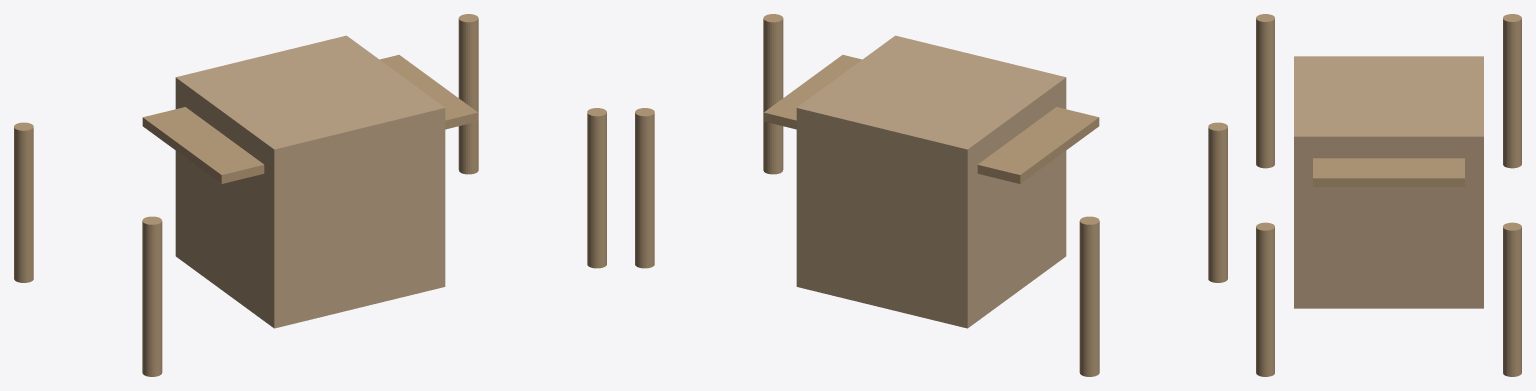
The model's file is wood_trough.glb.
3 renders of one model, left to right at view 1: azimuth 30°, elevation 25°; view 2: azimuth 150°, elevation 25°; view 3: azimuth 270°, elevation 25°, orthographic. The views are drawn at different scales.
Visible parts, largest first — view 1: wood_trough, bench_top, bench_leg_-1.3_-0.65, bench_leg_1.3_-0.65, bench_leg_-1.3_0.65, bench_leg_1.3_0.65; view 2: wood_trough, bench_top, bench_leg_-1.3_0.65, bench_leg_1.3_0.65, bench_leg_-1.3_-0.65, bench_leg_1.3_-0.65; view 3: wood_trough, bench_top, bench_leg_1.3_0.65, bench_leg_1.3_-0.65, bench_leg_-1.3_0.65, bench_leg_-1.3_-0.65.
Boxes of the visible parts, x1,y1,x2,y2 form: wood_trough: (175,35,445,328); bench_top: (142,55,478,183); bench_leg_-1.3_-0.65: (142,216,162,376); bench_leg_1.3_-0.65: (587,108,606,268); bench_leg_-1.3_0.65: (14,122,33,282); bench_leg_1.3_0.65: (458,14,478,174); wood_trough: (796,35,1066,328); bench_top: (763,55,1099,183); bench_leg_-1.3_0.65: (1079,216,1099,376); bench_leg_1.3_0.65: (635,108,654,268); bench_leg_-1.3_-0.65: (1208,122,1227,282); bench_leg_1.3_-0.65: (763,14,783,174); wood_trough: (1294,56,1483,308); bench_top: (1313,158,1464,186); bench_leg_1.3_0.65: (1503,222,1521,376); bench_leg_1.3_-0.65: (1256,222,1274,376); bench_leg_-1.3_0.65: (1503,14,1521,168); bench_leg_-1.3_-0.65: (1256,14,1274,168).
Bounding box in the file's own units: 2.7 × 1 × 1.4.
